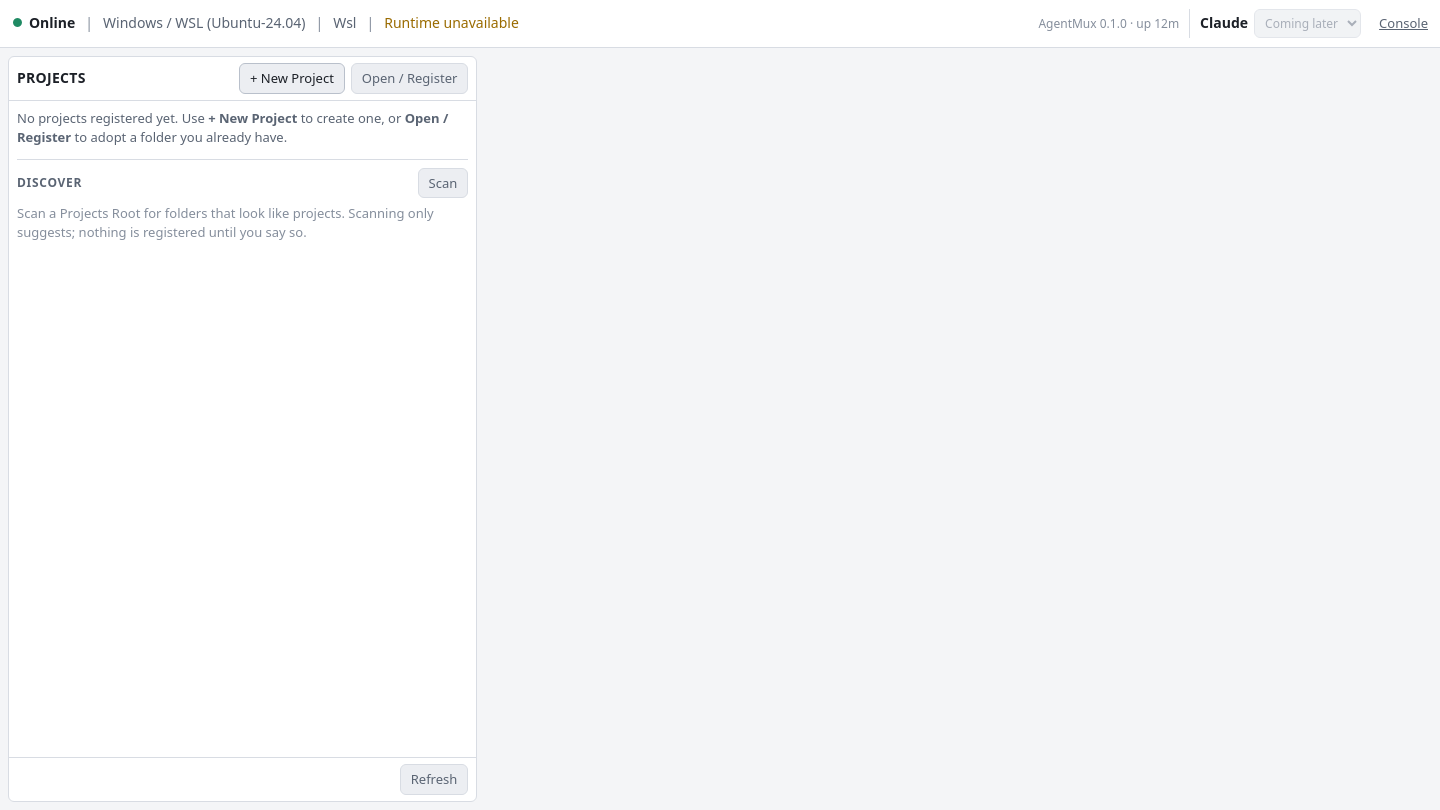
it: App workspace membership › registers a discovered candidate and opens a panel for it
expect the text "No projects registered yet" is shown: met, box [17,109,208,127]
Step 1. Click the button "Scan" → x=443, y=183, box [418,168,468,198]
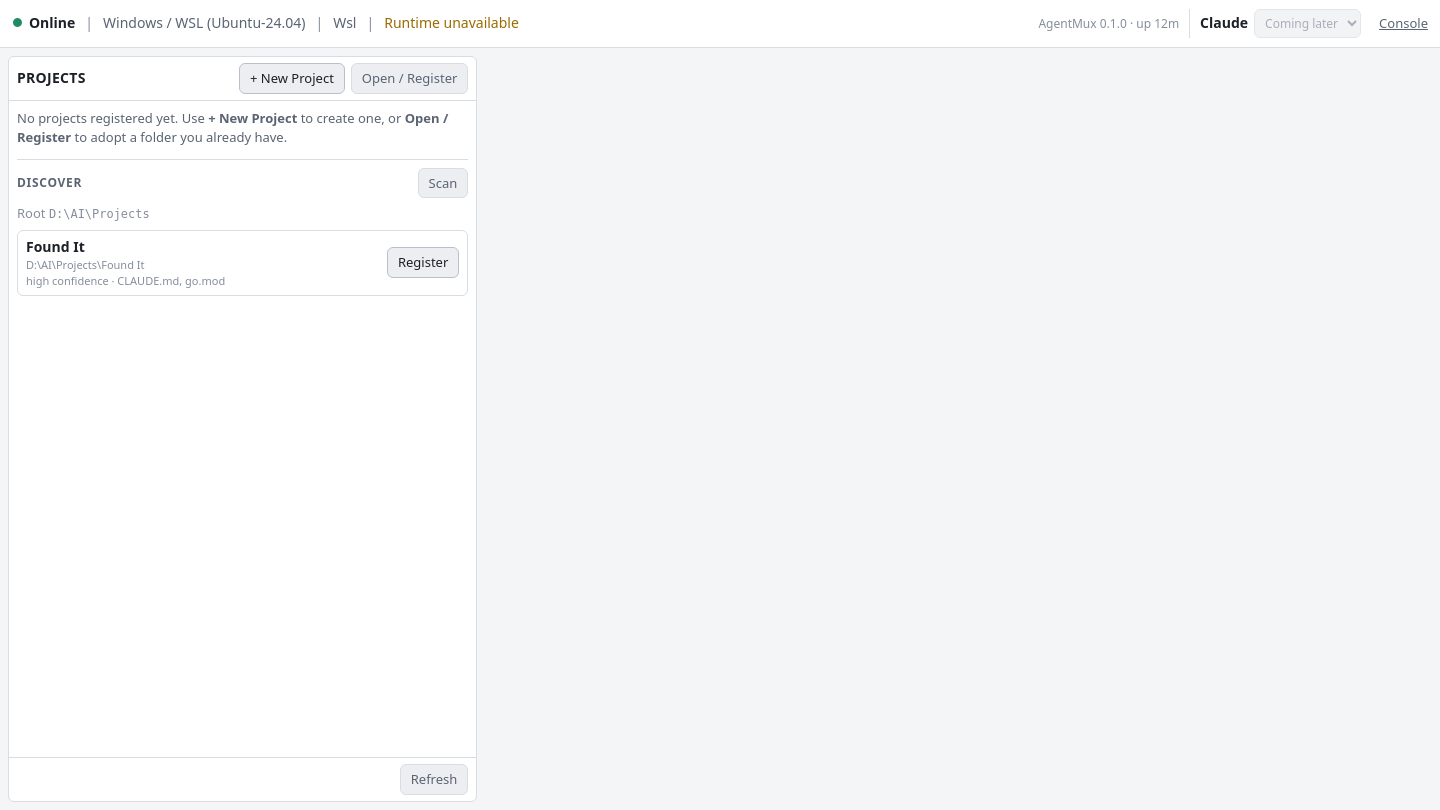
Step 2. Click the button with aria-label "Register Found It" → x=423, y=263, box [387,247,459,278]
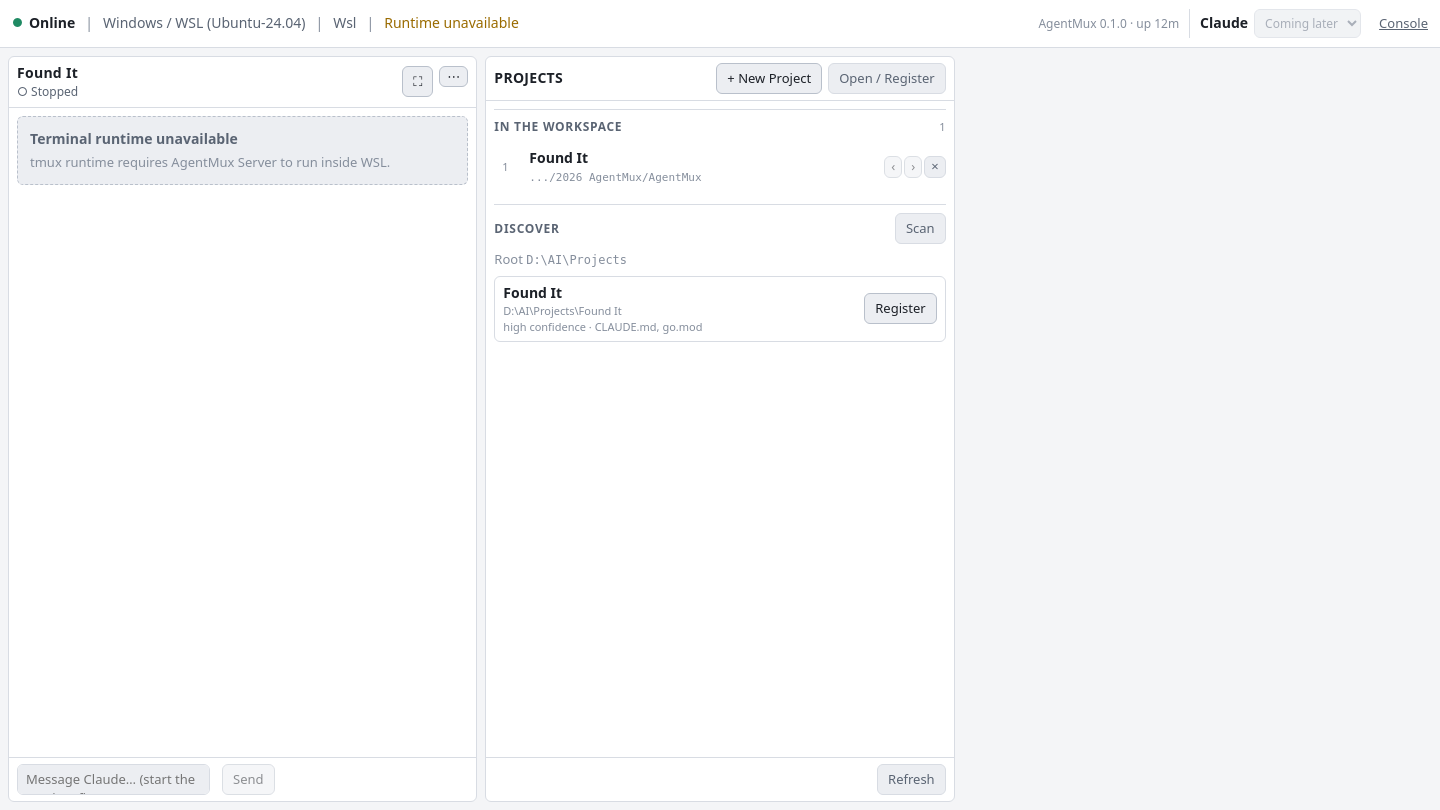
expect the heading "Found It" is shown: met, box [17,63,78,83]
